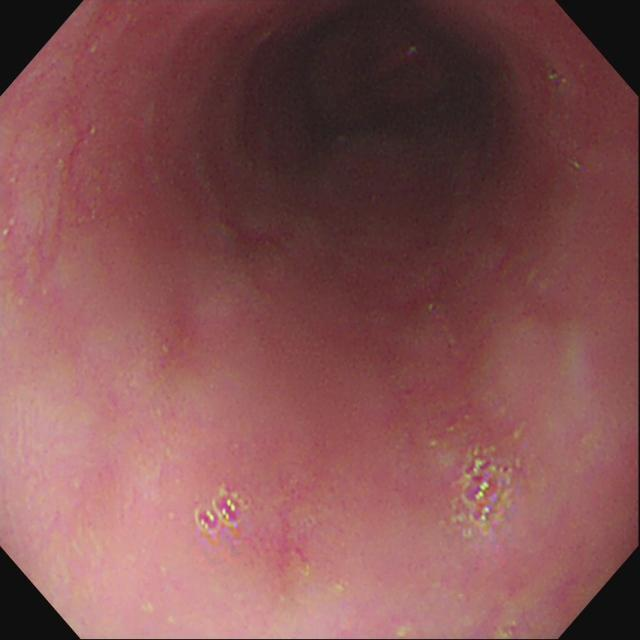T: (462, 459, 511, 529), (197, 489, 248, 537)
